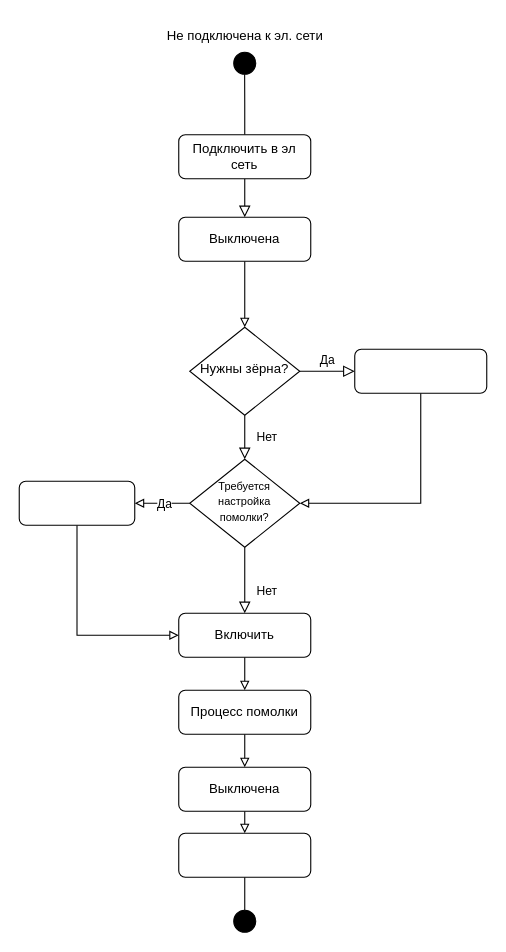
Some shapes in this 506 by 952 pixel diagram are drawn without their labels. Here are the shapes that lost their labels. From the top down, the centre of each, then its label:
the point at 420,370: Засыпать зёрна
the point at 76,502: Настройка помола
the point at 244,854: Выключить из сети
